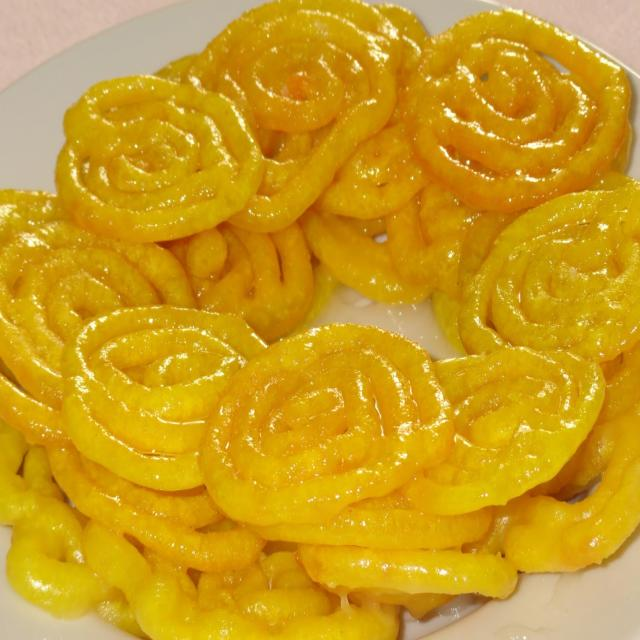jalebi: (1, 26, 626, 640)
